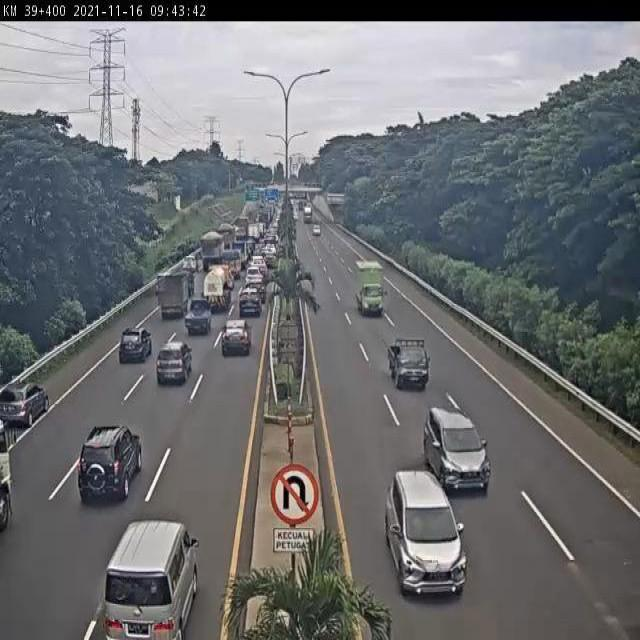car: (95, 512, 204, 640), (380, 465, 469, 604), (71, 414, 146, 514), (420, 402, 491, 498), (0, 375, 53, 433), (385, 338, 428, 394), (153, 339, 192, 389), (117, 324, 155, 369), (219, 318, 253, 362), (183, 297, 213, 340), (237, 289, 263, 319), (244, 275, 267, 304), (179, 250, 200, 274), (244, 265, 264, 288), (251, 253, 266, 272), (264, 251, 278, 268)
small truck: (352, 256, 387, 316), (220, 248, 244, 280)
truck-l-: (198, 232, 226, 276), (216, 219, 236, 248)
truck-m-: (153, 270, 192, 326), (203, 263, 234, 313)
